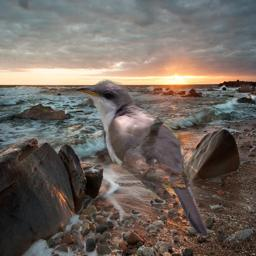Cuckoo: (72, 77, 208, 240)
